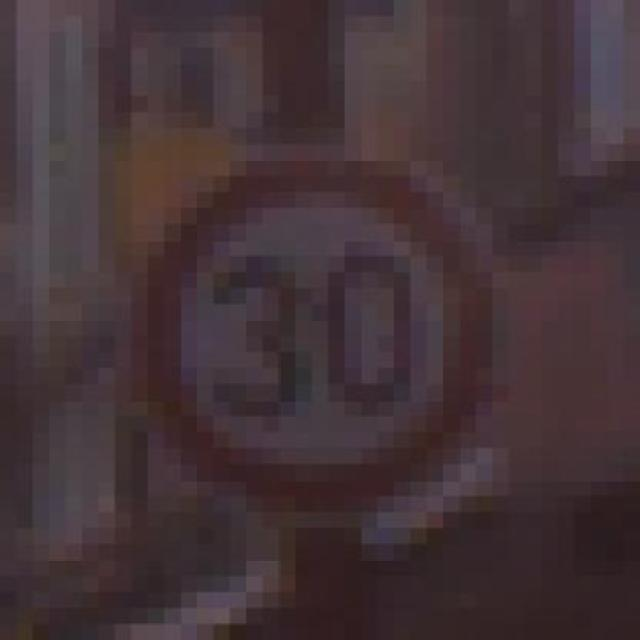Speed Limit 30 KMPh: (132, 128, 526, 592)
